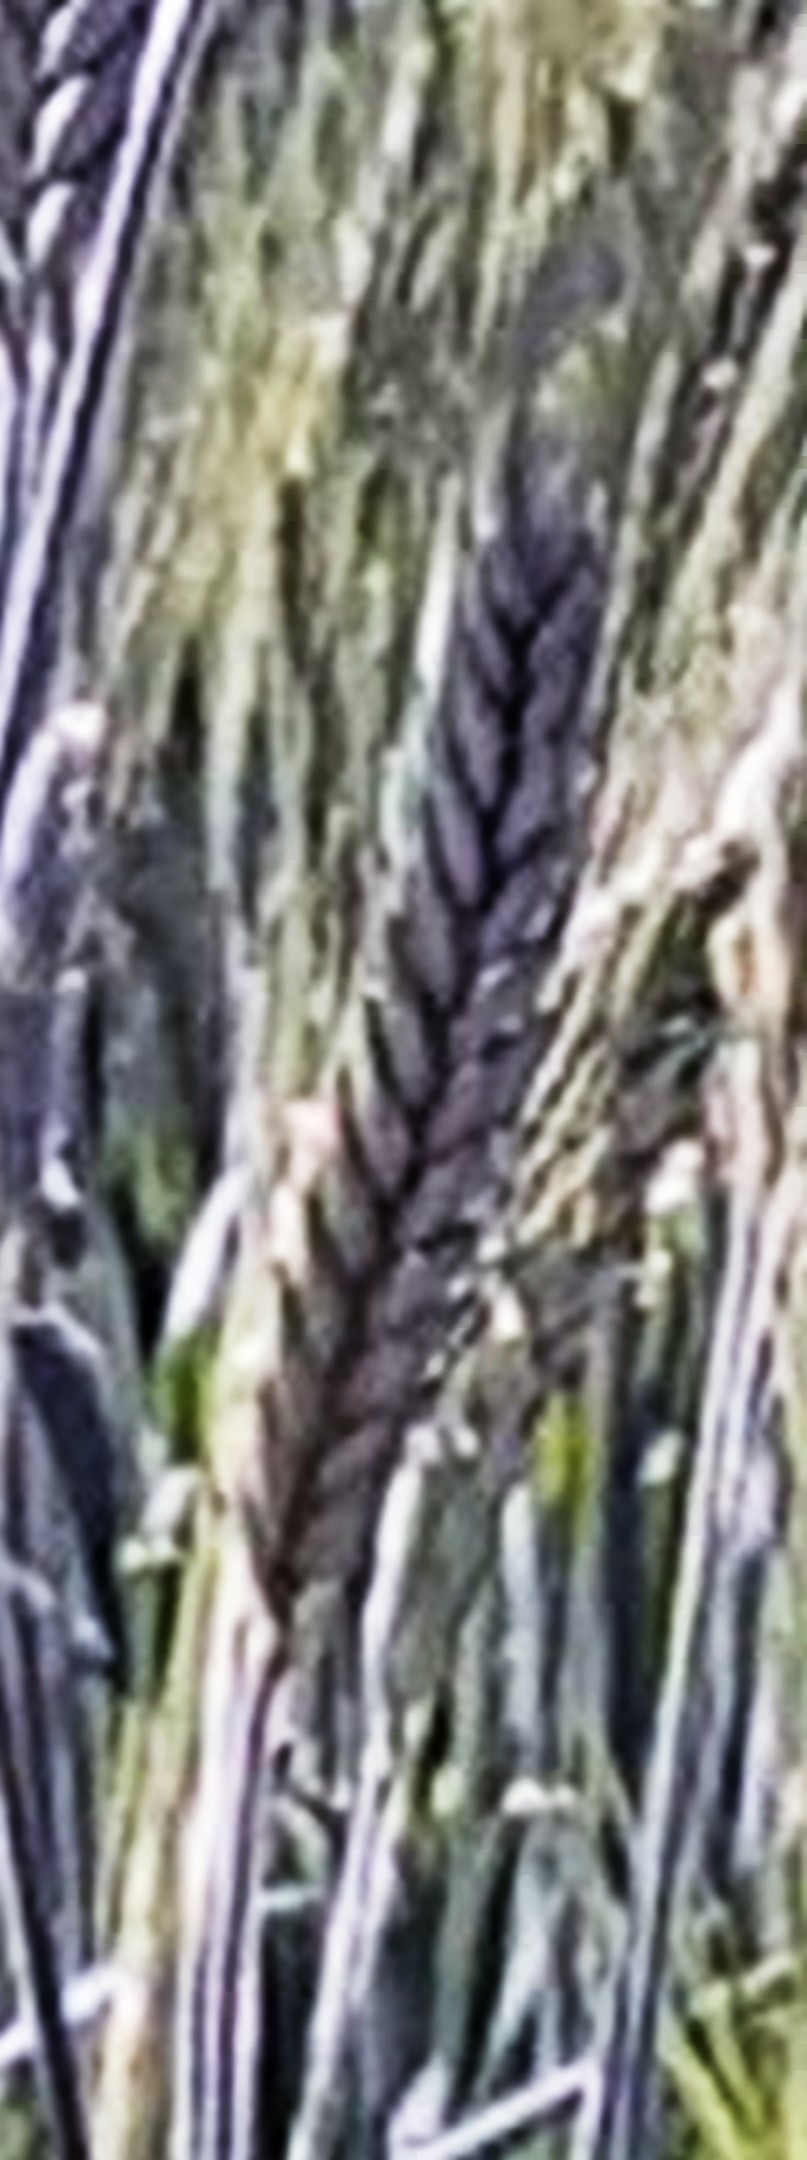Healthy Wheat: (244, 515, 649, 1597)
